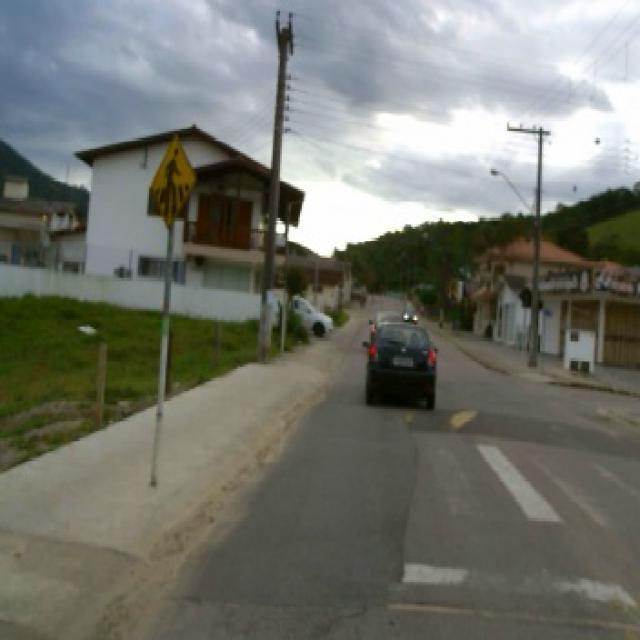Poth-hole: (407, 404, 640, 456), (385, 598, 640, 629)
